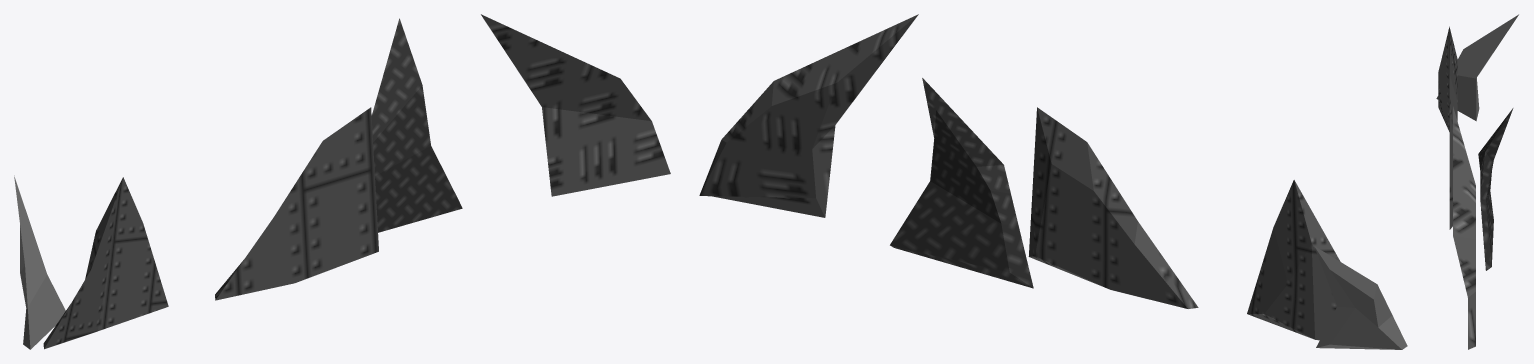
The model's file is Barricade_Shards.fbx.
3 renders of one model, left to right at view 1: azimuth 30°, elevation 25°; view 2: azimuth 150°, elevation 25°; view 3: azimuth 270°, elevation 25°, orthographic. The views are drawn at different scales.
Parts seen in each view (by area): view 1: Shards 1; view 2: Shards 1; view 3: Shards 1.
Part boxes in pixels (<box>): Shards 1: <box>14,14,670,349</box>; Shards 1: <box>699,14,1407,349</box>; Shards 1: <box>1436,14,1518,349</box>.
Bounding box in the file's own units: 369 × 118 × 51.61.
